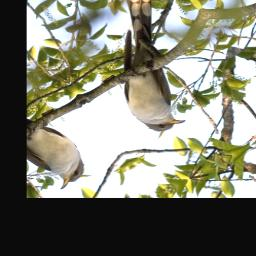Cuckoo: (68, 0, 230, 140)
